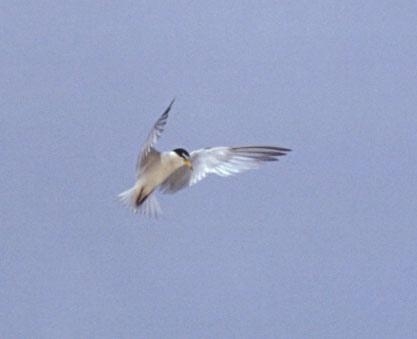bird: (113, 93, 295, 217)
